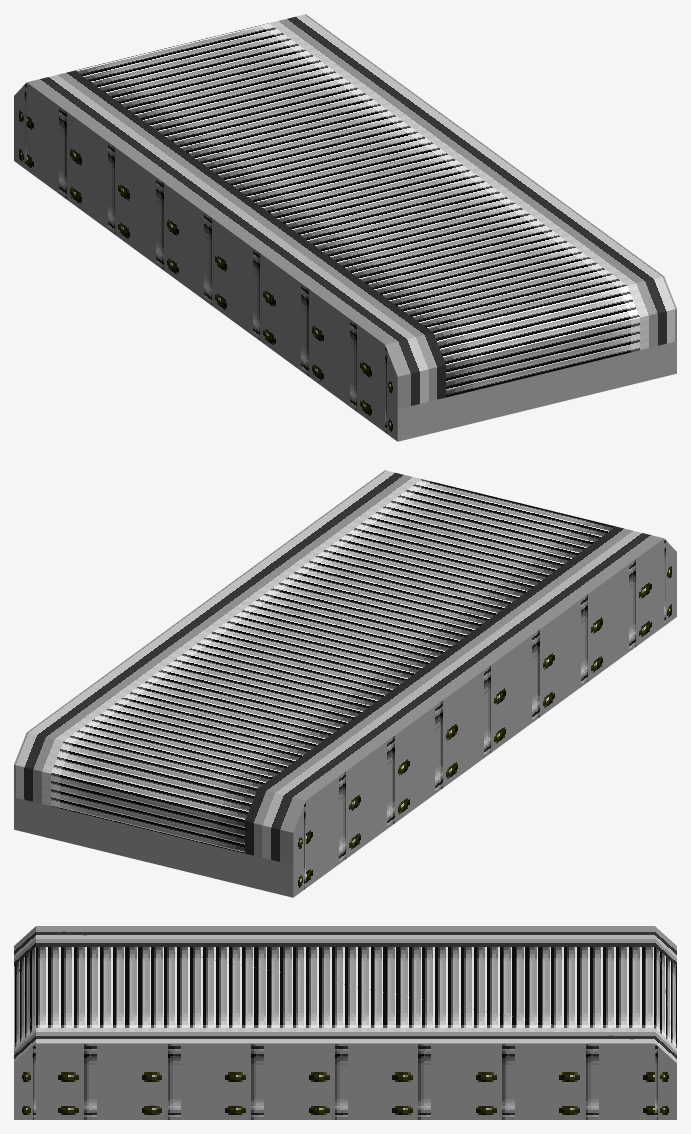
The model's file is ct_mecha_obj04l.glb.
3 views of the same model, one above another, from view 1: azimuth 30°, elevation 25°; view 2: azimuth 150°, elevation 25°; view 3: azimuth 270°, elevation 25° (orthographic). The views are drawn at different scales.
Visible parts, largest first — view 1: ct_mecha_obj04l; view 2: ct_mecha_obj04l; view 3: ct_mecha_obj04l.
Boxes of the visible parts, left/top/right/bottom form: ct_mecha_obj04l: left=14, top=14, right=676, bottom=441; ct_mecha_obj04l: left=14, top=470, right=676, bottom=897; ct_mecha_obj04l: left=14, top=926, right=676, bottom=1119.
Bounding box in the file's own units: 3.52 × 1.06 × 8.36.
Materials: 2 (2 with a texture image).
